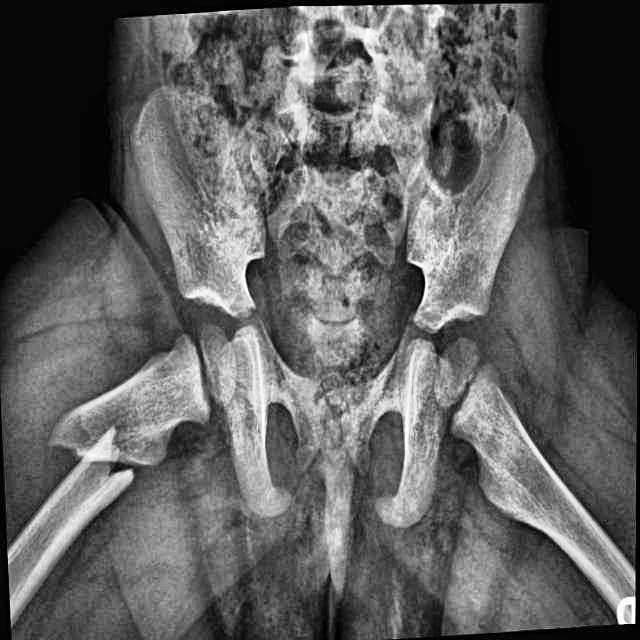Transverse: (33, 382, 156, 518)
